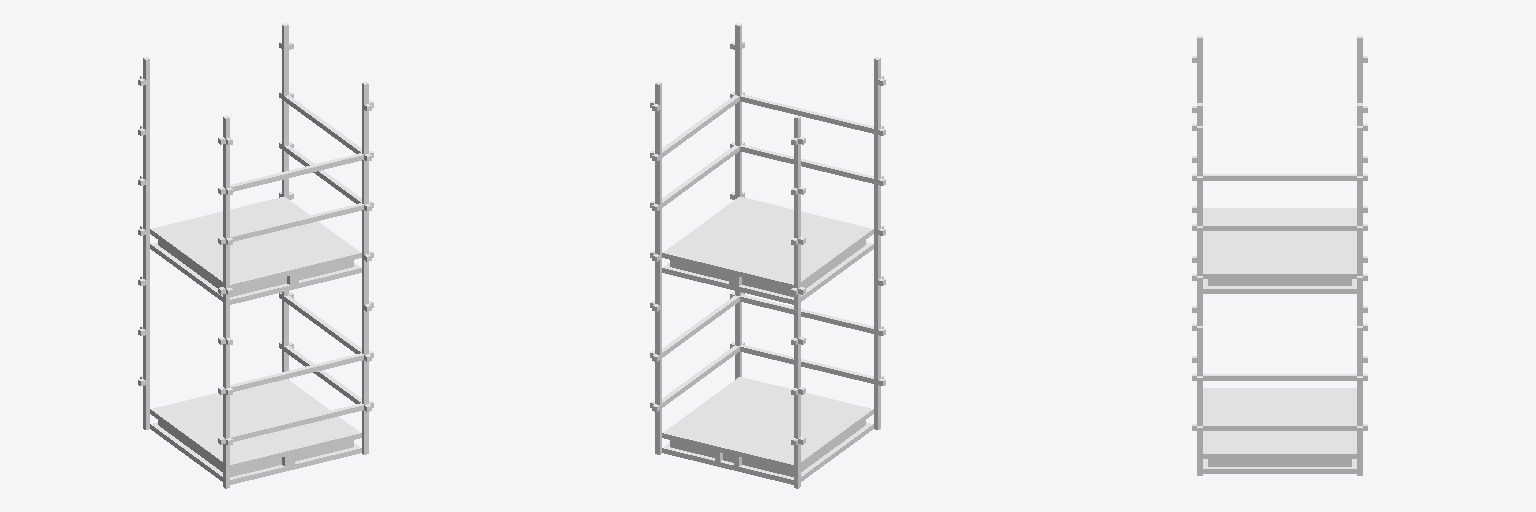
Rendered from GDS2_Construction-0.obj.
3 renders of one model, left to right at view 1: azimuth 30°, elevation 25°; view 2: azimuth 150°, elevation 25°; view 3: azimuth 270°, elevation 25°, orthographic.
Visible parts, largest first — view 1: GDS2_Construction-0; view 2: GDS2_Construction-0; view 3: GDS2_Construction-0.
Boxes of the visible parts, <box> form: GDS2_Construction-0: <box>138,23,373,488</box>; GDS2_Construction-0: <box>650,23,885,488</box>; GDS2_Construction-0: <box>1192,36,1367,475</box>.
Size of the model in its own units: 3.2 by 7.4 by 3.2.